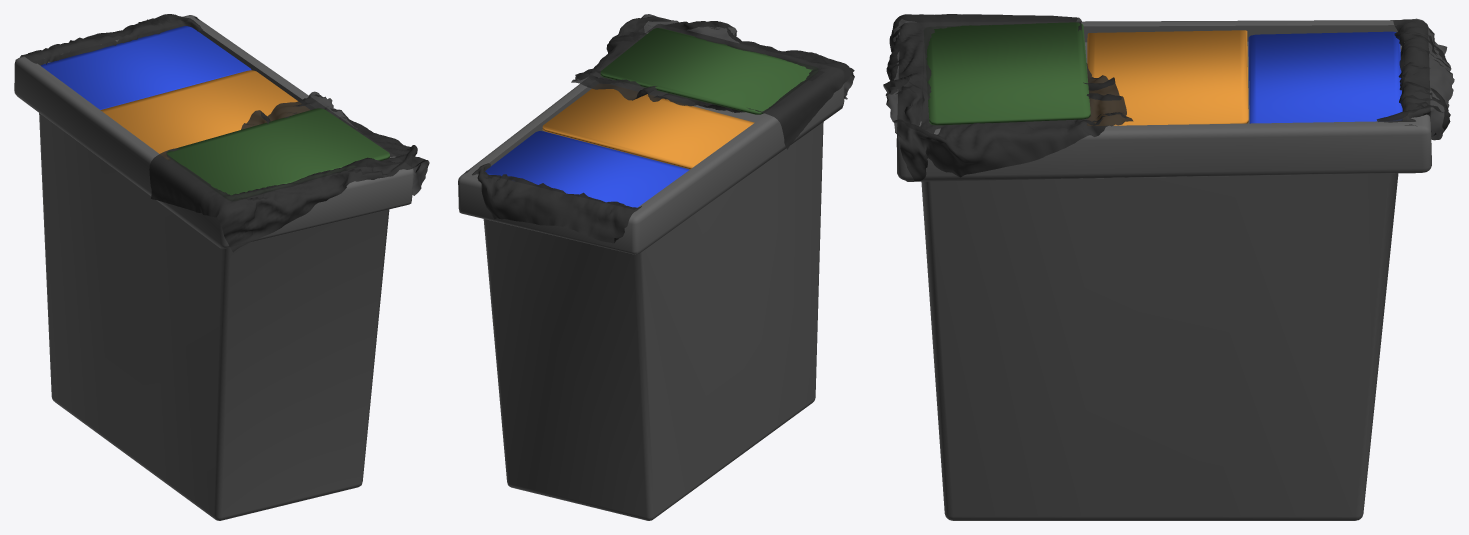
File: trash_box.fbx
The picture shows the model from 3 angles, left to right: view 1: azimuth 30°, elevation 25°; view 2: azimuth 150°, elevation 25°; view 3: azimuth 270°, elevation 25°; orthographic projection. The views are drawn at different scales.
Parts seen in each view (by area): view 1: trash box 2.002; view 2: trash box 2.002; view 3: trash box 2.002.
Part boxes in pixels (x1,y1,x2,y2): trash box 2.002: (14, 14, 429, 520); trash box 2.002: (458, 14, 854, 520); trash box 2.002: (883, 14, 1454, 520).
Bounding box in the file's own units: 28.98 × 42.65 × 52.
